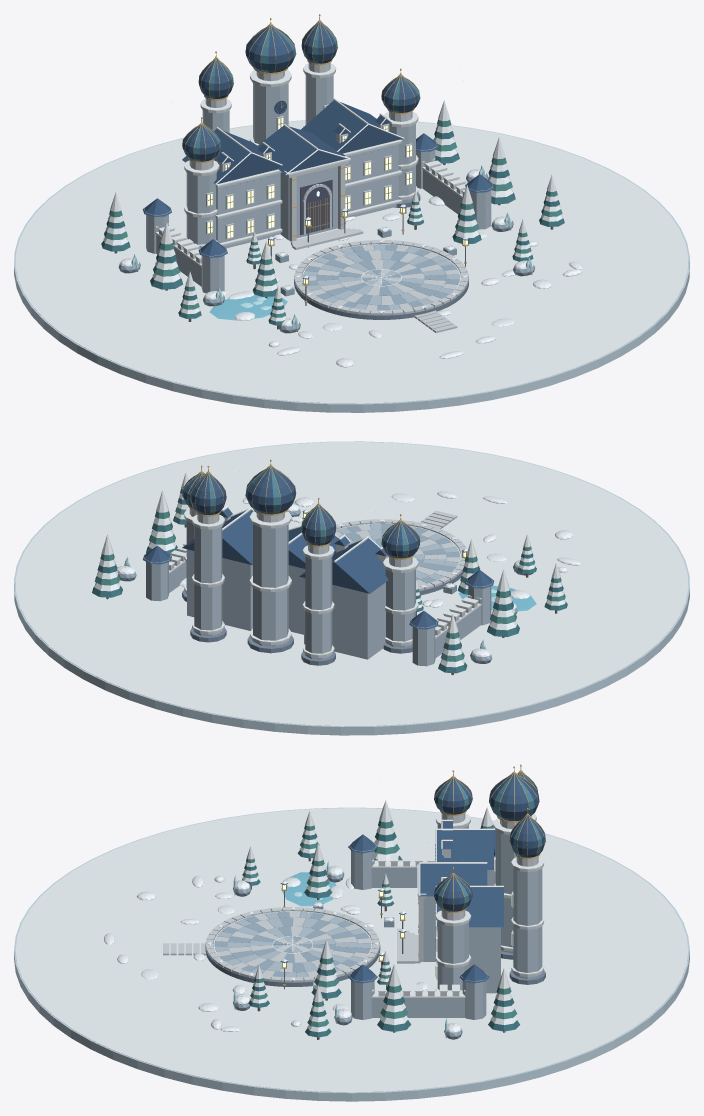
Rendered from snow-palace.glb.
The picture shows the model from 3 angles, top to bottom: view 1: azimuth 30°, elevation 25°; view 2: azimuth 150°, elevation 25°; view 3: azimuth 270°, elevation 25°; orthographic projection.
Visible parts, largest first — view 1: 01 Battlefield | Winter | Fresh snow, 01 Battlefield | Winter | Blue snow shadow, 05 Winter gardens | Winter | Fresh snow, 02 Palace facade | Winter | Glacial limestone, 02 Palace facade | Winter | Midnight blue roof, 03 Onion towers | Winter | Midnight blue roof, 03 Onion towers | Winter | Glacial limestone, 01 Battlefield | Winter | Pearl limestone, 02 Palace facade | Winter | Pearl limestone, 01 Battlefield | Winter | Ice blue paving, 04 Ramparts | Winter | Glacial limestone, 01 Battlefield | Winter | Glacial limestone (+15 smaller); view 2: 01 Battlefield | Winter | Fresh snow, 03 Onion towers | Winter | Glacial limestone, 01 Battlefield | Winter | Blue snow shadow, 02 Palace facade | Winter | Glacial limestone, 03 Onion towers | Winter | Midnight blue roof, 05 Winter gardens | Winter | Fresh snow, 02 Palace facade | Winter | Midnight blue roof, 04 Ramparts | Winter | Glacial limestone, 01 Battlefield | Winter | Pearl limestone, 03 Onion towers | Winter | Pearl limestone, 05 Winter gardens | Winter | Pine deep blue, 03 Onion towers | Winter | Fresh snow (+8 smaller); view 3: 01 Battlefield | Winter | Fresh snow, 01 Battlefield | Winter | Blue snow shadow, 05 Winter gardens | Winter | Fresh snow, 03 Onion towers | Winter | Glacial limestone, 01 Battlefield | Winter | Pearl limestone, 03 Onion towers | Winter | Midnight blue roof, 02 Palace facade | Winter | Midnight blue roof, 04 Ramparts | Winter | Glacial limestone, 01 Battlefield | Winter | Ice blue paving, 01 Battlefield | Winter | Glacial limestone, 02 Palace facade | Winter | Glacial limestone, 05 Winter gardens | Winter | Pine deep blue (+12 smaller).
Part boxes in pixels (bbox=[...]): 01 Battlefield | Winter | Fresh snow: bbox=[15, 120, 688, 403]; 01 Battlefield | Winter | Blue snow shadow: bbox=[14, 120, 689, 412]; 05 Winter gardens | Winter | Fresh snow: bbox=[103, 100, 582, 367]; 02 Palace facade | Winter | Glacial limestone: bbox=[216, 144, 398, 248]; 02 Palace facade | Winter | Midnight blue roof: bbox=[182, 100, 402, 184]; 03 Onion towers | Winter | Midnight blue roof: bbox=[182, 21, 419, 161]; 03 Onion towers | Winter | Glacial limestone: bbox=[186, 75, 415, 244]; 01 Battlefield | Winter | Pearl limestone: bbox=[294, 240, 468, 332]; 02 Palace facade | Winter | Pearl limestone: bbox=[215, 123, 401, 249]; 01 Battlefield | Winter | Ice blue paving: bbox=[302, 244, 461, 311]; 04 Ramparts | Winter | Glacial limestone: bbox=[146, 149, 491, 293]; 01 Battlefield | Winter | Glacial limestone: bbox=[303, 244, 459, 310]; 01 Battlefield | Winter | Fresh snow: bbox=[15, 442, 688, 726]; 03 Onion towers | Winter | Glacial limestone: bbox=[186, 521, 415, 659]; 01 Battlefield | Winter | Blue snow shadow: bbox=[14, 441, 689, 735]; 02 Palace facade | Winter | Glacial limestone: bbox=[187, 549, 385, 659]; 03 Onion towers | Winter | Midnight blue roof: bbox=[182, 466, 419, 558]; 05 Winter gardens | Winter | Fresh snow: bbox=[94, 473, 580, 667]; 02 Palace facade | Winter | Midnight blue roof: bbox=[182, 508, 388, 593]; 04 Ramparts | Winter | Glacial limestone: bbox=[146, 562, 491, 666]; 01 Battlefield | Winter | Pearl limestone: bbox=[335, 510, 466, 590]; 03 Onion towers | Winter | Pearl limestone: bbox=[184, 508, 418, 657]; 05 Winter gardens | Winter | Pine deep blue: bbox=[92, 498, 567, 673]; 03 Onion towers | Winter | Fresh snow: bbox=[184, 508, 418, 655]; 01 Battlefield | Winter | Fresh snow: bbox=[15, 808, 688, 1092]; 01 Battlefield | Winter | Blue snow shadow: bbox=[14, 807, 689, 1101]; 05 Winter gardens | Winter | Fresh snow: bbox=[104, 800, 517, 1032]; 03 Onion towers | Winter | Glacial limestone: bbox=[437, 825, 542, 990]; 01 Battlefield | Winter | Pearl limestone: bbox=[163, 907, 379, 982]; 03 Onion towers | Winter | Midnight blue roof: bbox=[434, 772, 545, 911]; 02 Palace facade | Winter | Midnight blue roof: bbox=[420, 821, 503, 927]; 04 Ramparts | Winter | Glacial limestone: bbox=[351, 851, 486, 1019]; 01 Battlefield | Winter | Ice blue paving: bbox=[213, 911, 372, 978]; 01 Battlefield | Winter | Glacial limestone: bbox=[214, 912, 370, 977]; 02 Palace facade | Winter | Glacial limestone: bbox=[423, 870, 500, 993]; 05 Winter gardens | Winter | Pine deep blue: bbox=[242, 832, 519, 1037].
Bounding box in the file's own units: 80 × 25.16 × 80.
